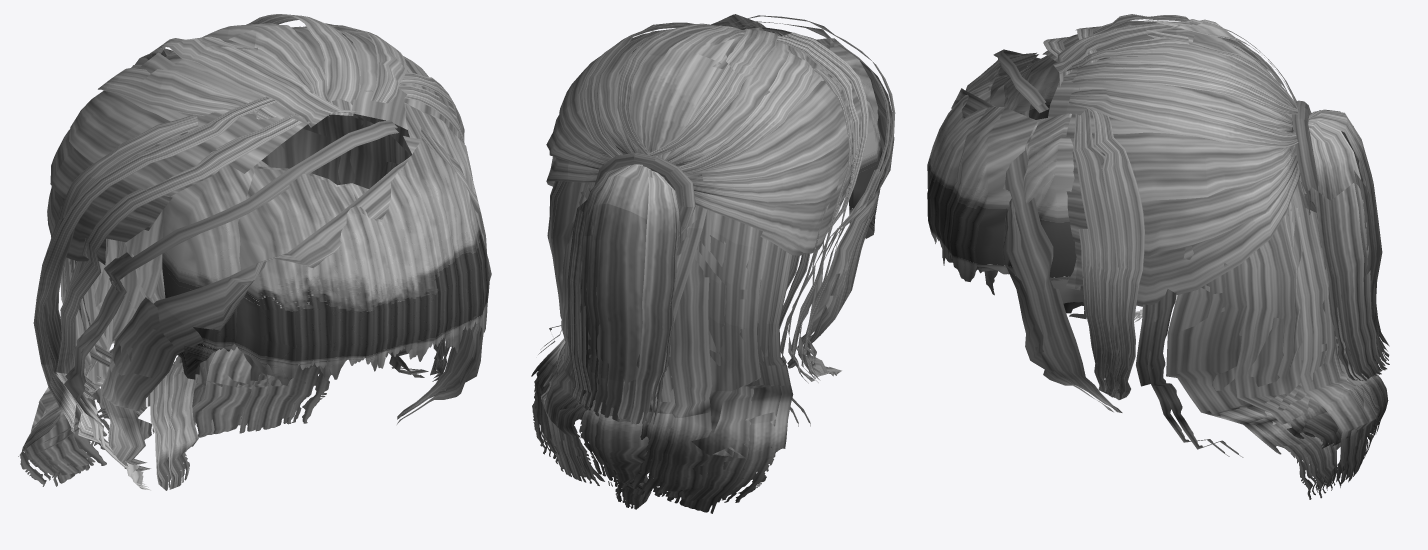
Rendered from hair_user_photo.glb.
The picture shows the model from 3 angles, left to right: view 1: azimuth 30°, elevation 25°; view 2: azimuth 150°, elevation 25°; view 3: azimuth 270°, elevation 25°; orthographic projection. The views are drawn at different scales.
Parts seen in each view (by area): view 1: hair_user_photo; view 2: hair_user_photo; view 3: hair_user_photo.
Boxes of the visible parts, left/top/right/bottom form: hair_user_photo: left=18, top=14, right=491, bottom=490; hair_user_photo: left=531, top=14, right=895, bottom=513; hair_user_photo: left=927, top=14, right=1389, bottom=499.
Bounding box in the file's own units: 0.1802 × 0.2464 × 0.2393.
Materials: 1 (1 with a texture image).
